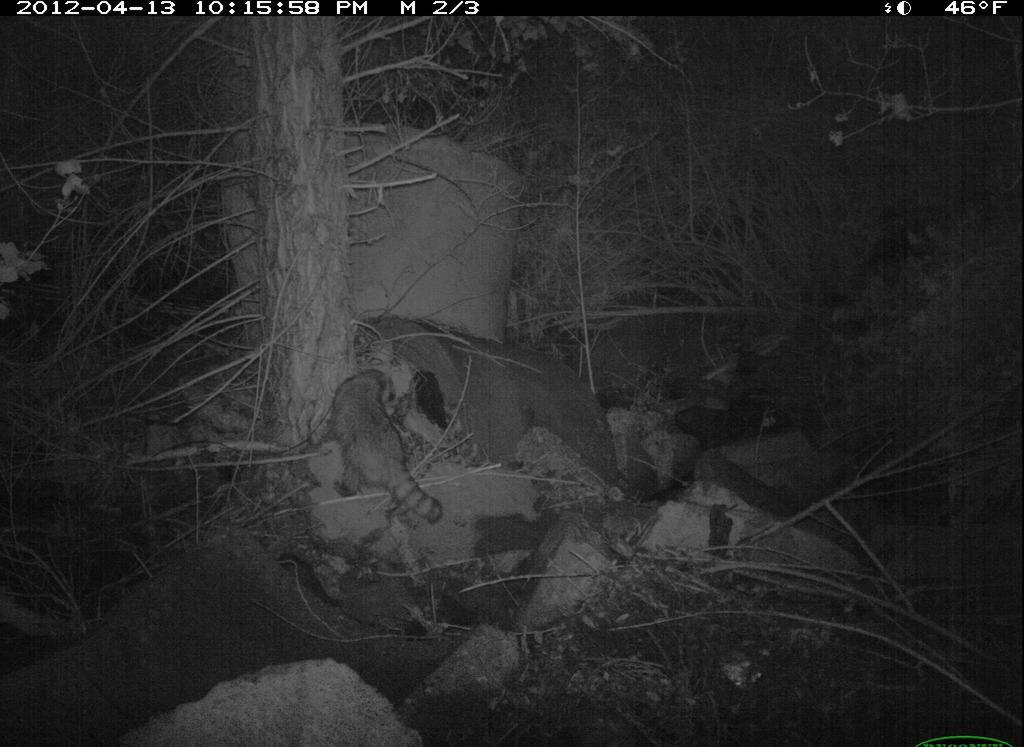raccoon: (323, 355, 452, 552)
